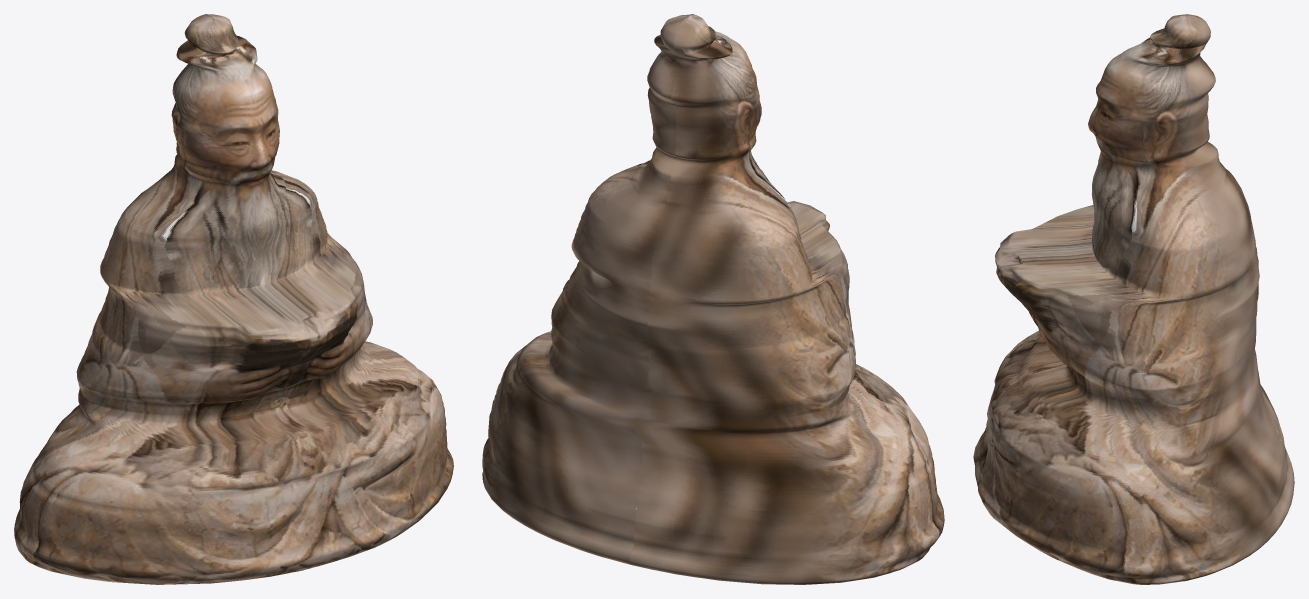
File: chen.glb
The picture shows the model from 3 angles, left to right: view 1: azimuth 30°, elevation 25°; view 2: azimuth 150°, elevation 25°; view 3: azimuth 270°, elevation 25°; orthographic projection. The views are drawn at different scales.
Visible parts, largest first — view 1: chen; view 2: chen; view 3: chen.
Part boxes in pixels (bbox=[...]): chen: bbox=[14, 14, 453, 584]; chen: bbox=[482, 14, 944, 584]; chen: bbox=[973, 14, 1294, 584].
Bounding box in the file's own units: 0.8937 × 1 × 0.608.
Materials: 1 (1 with a texture image).
